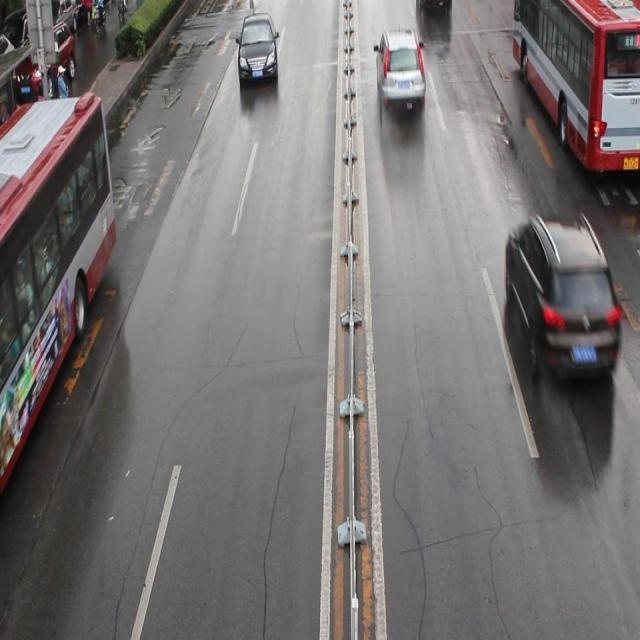car: (504, 216, 617, 378), (374, 28, 425, 106), (23, 26, 76, 101), (236, 15, 278, 81)
van: (1, 94, 115, 513), (511, 1, 640, 171)
